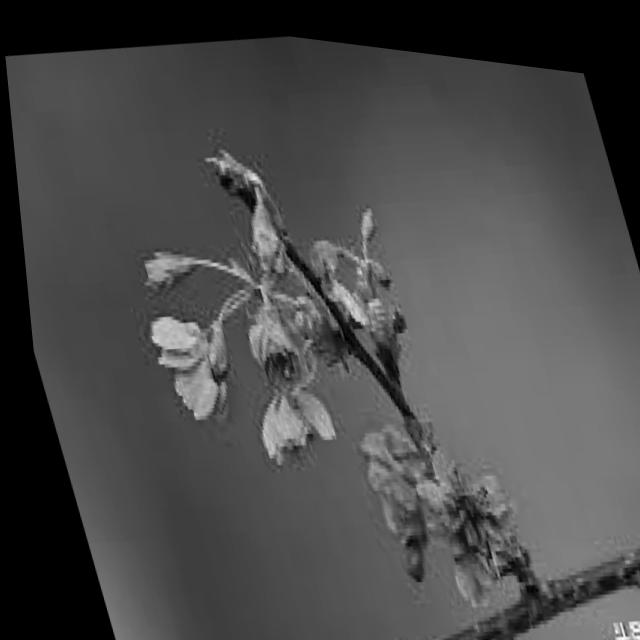Flower: (408, 441, 545, 614), (213, 279, 341, 459), (344, 397, 465, 566), (131, 290, 242, 443)
